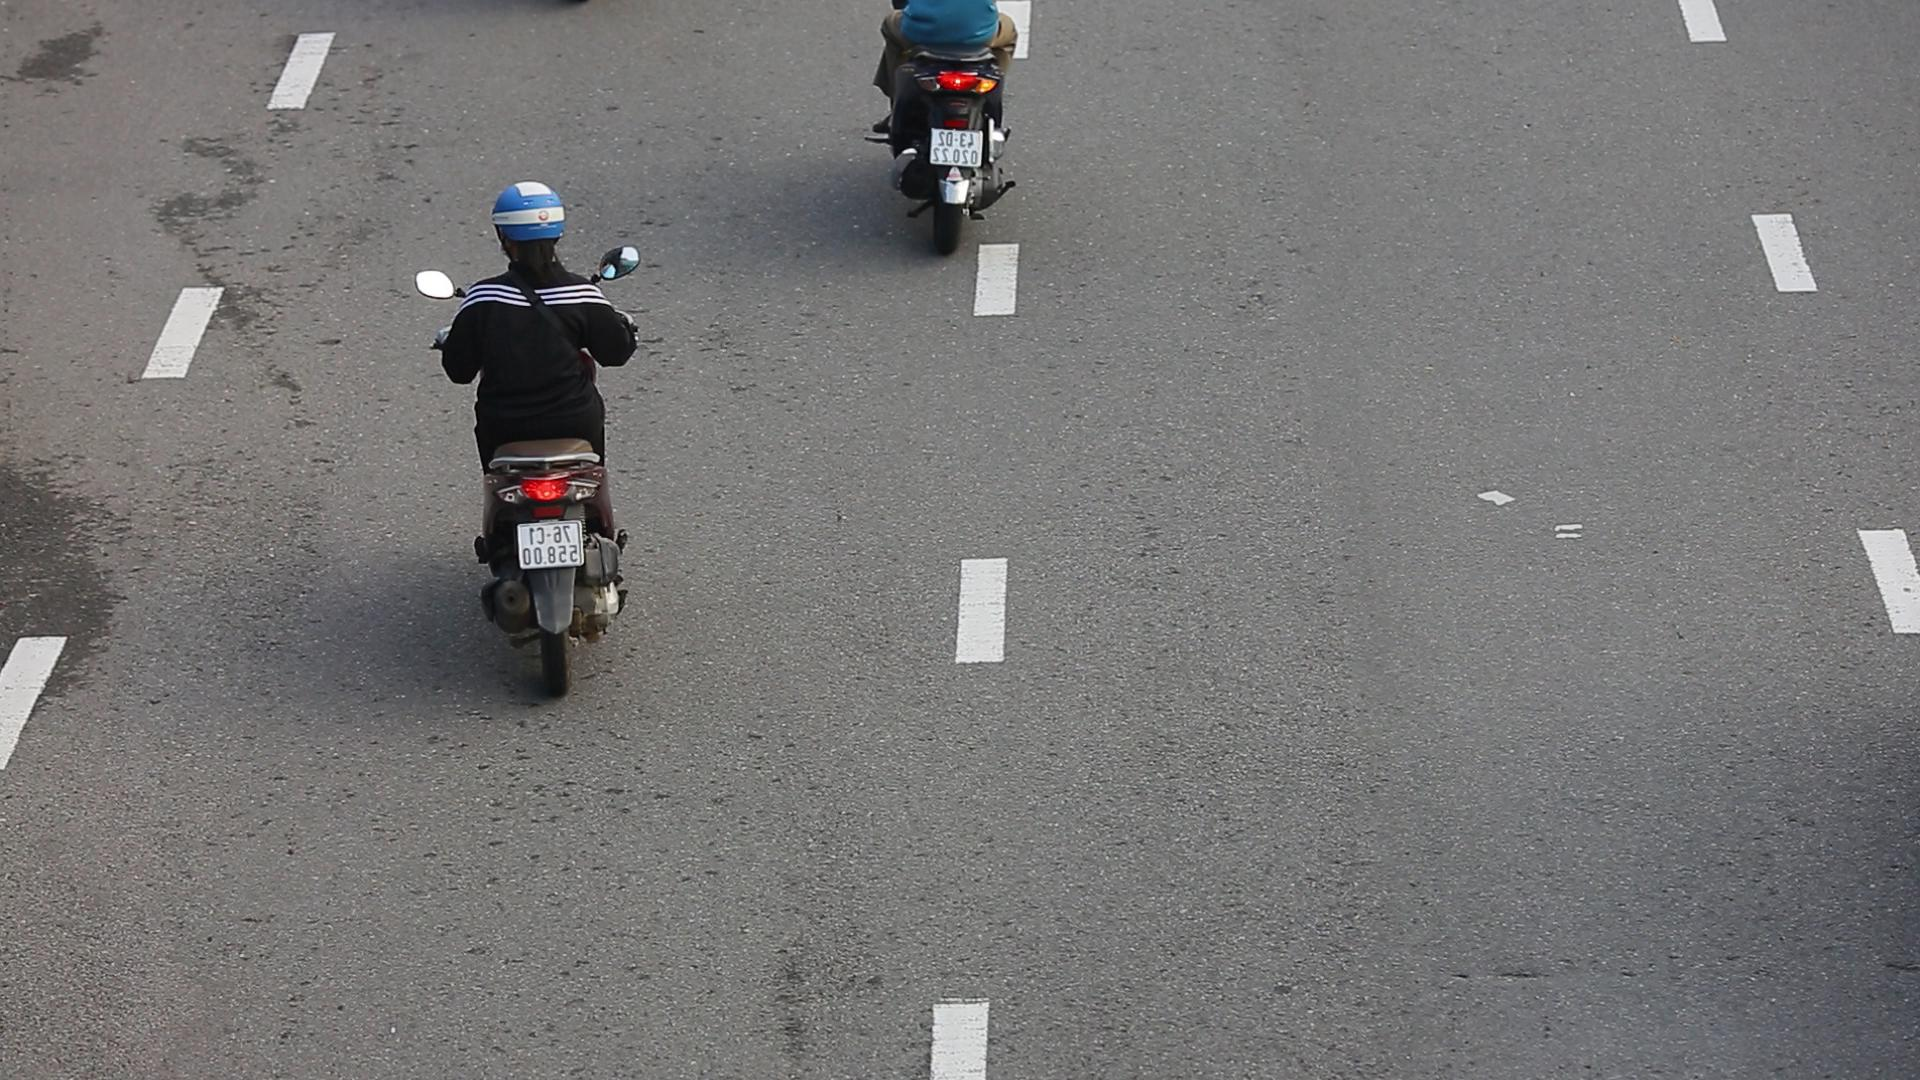motobike: (415, 174, 640, 699)
